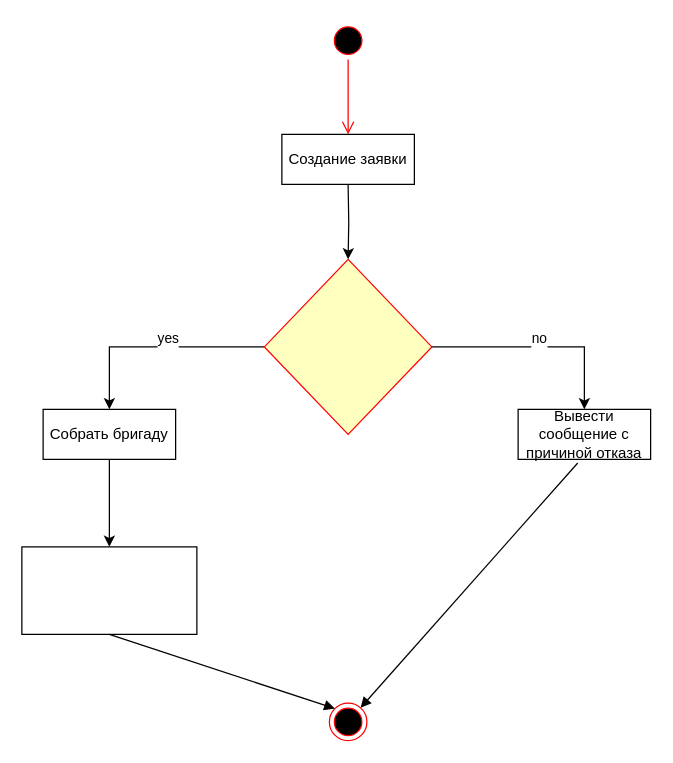
Some shapes in this 673 by 763 pixel diagram are drawn without their labels. Here are the shapes that lost their labels. From the top down, the centre of each, then its label:
(347,346): Администратор принимает заявку?
(109,590): добавить в план работ заявку с бригадой
